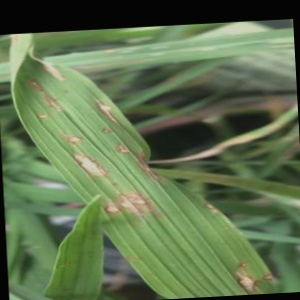Brown_Spot: (64, 146, 106, 181), (88, 92, 121, 128), (231, 259, 260, 294), (35, 57, 69, 81), (59, 125, 88, 153), (105, 133, 131, 161), (42, 88, 66, 113), (90, 119, 116, 142), (101, 196, 119, 224), (131, 189, 153, 211), (32, 106, 57, 125), (27, 73, 47, 93), (117, 192, 134, 212)
